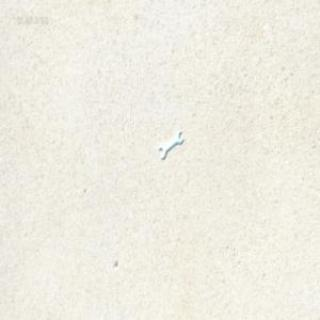Wrenchtrack_idkeyframe: (157, 126, 181, 156)
